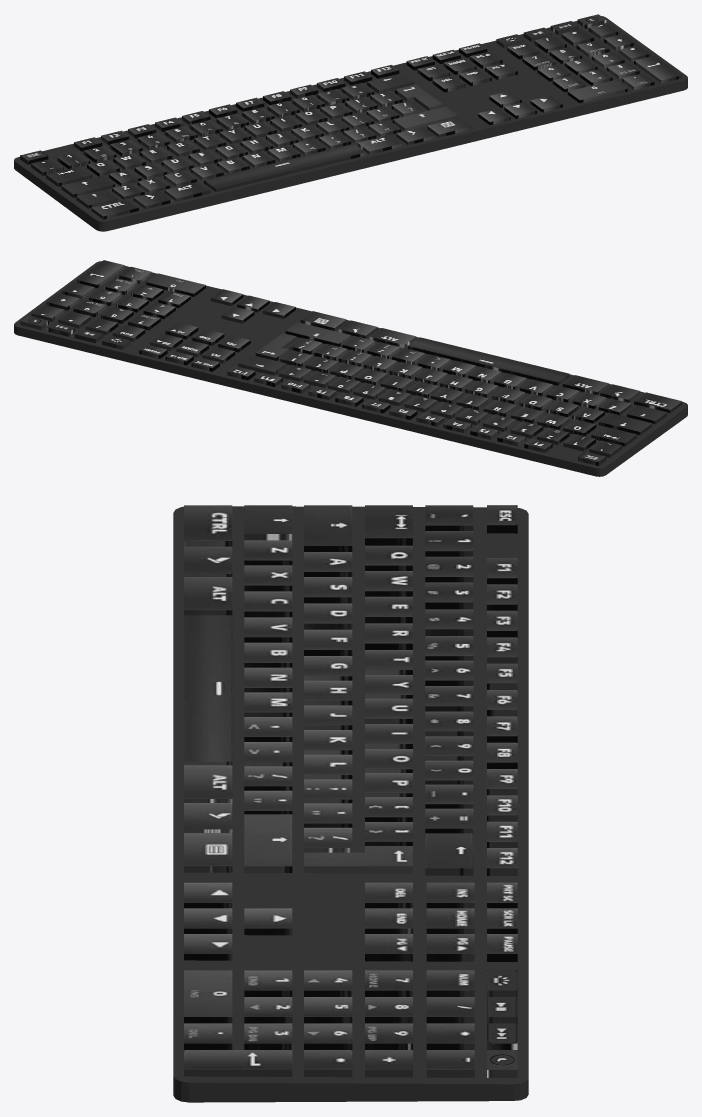
File: teclado 5.glb
3 views of the same model, one above another, from view 1: azimuth 30°, elevation 25°; view 2: azimuth 150°, elevation 25°; view 3: azimuth 270°, elevation 25° (orthographic). The views are drawn at different scales.
Visible parts, largest first — view 1: SM_Keyboard; view 2: SM_Keyboard; view 3: SM_Keyboard.
Part boxes in pixels (left/top/right/bottom): SM_Keyboard: left=14, top=14, right=687, bottom=231; SM_Keyboard: left=14, top=260, right=687, bottom=476; SM_Keyboard: left=173, top=505, right=528, bottom=1102.
Size of the model in its own units: 0.6332 by 0.0134 by 0.1648.
Materials: 1 (1 with a texture image).
